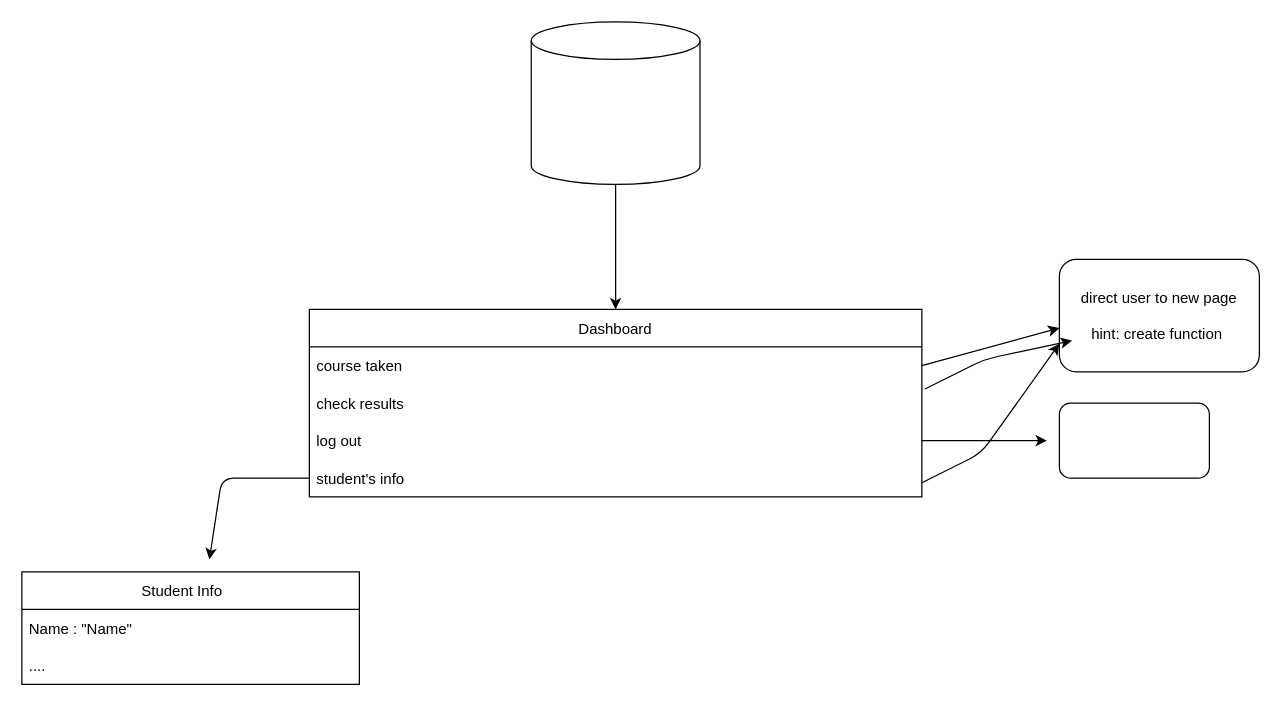
This 1281x706 diagram has some shape labels left out. The shapes that lost their labels are listed below. From the top down, each one's centre as x and y in pixels, then its label:
(x=615, y=102): while loop(infinite loop)
(x=1133, y=440): berak the loop
